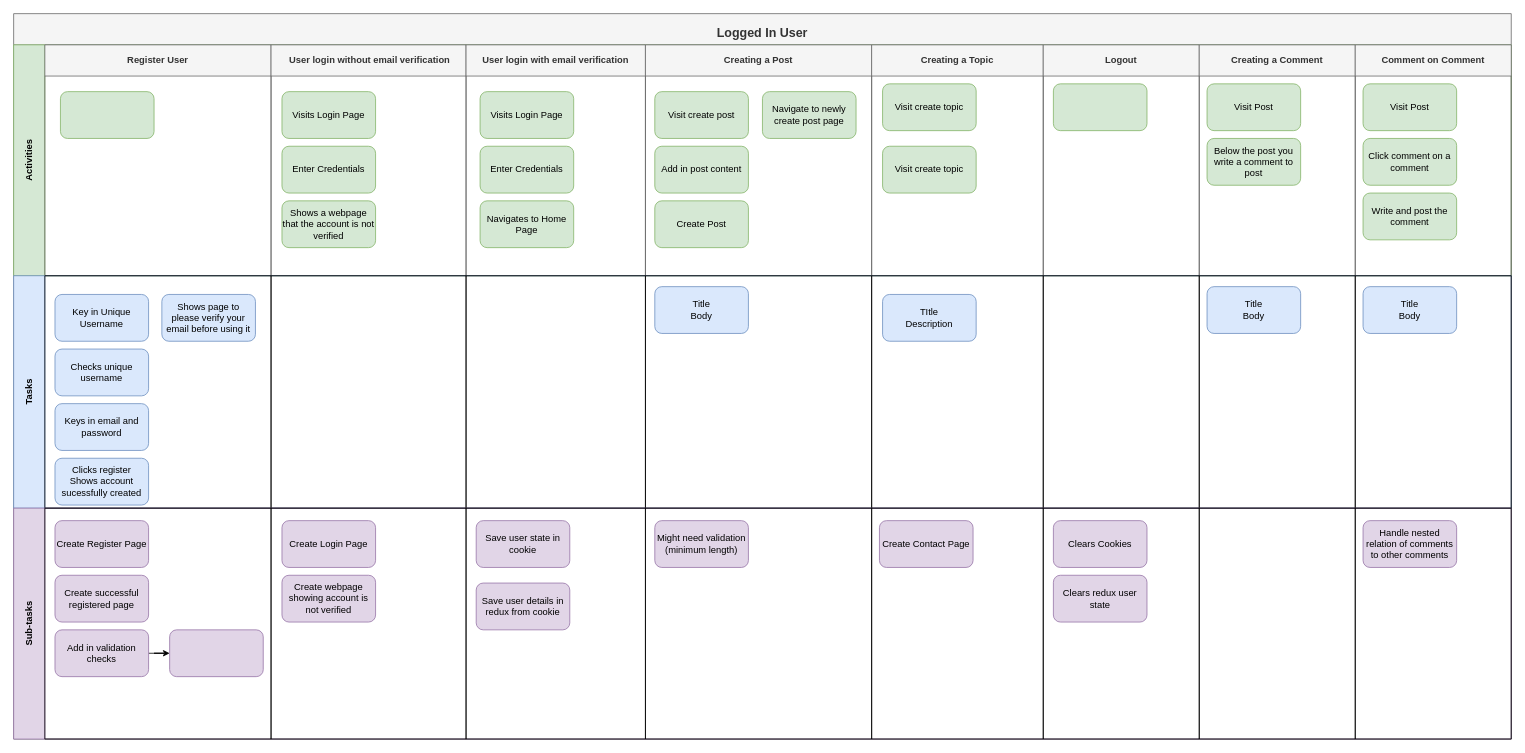
Image size: 1525x753. Some labels were removed from this diagram. Each missing label, with the centre of its shape:
Click Logout Button: point (1100, 107)
unique username: point (216, 653)
Visit Register Page: point (107, 114)
